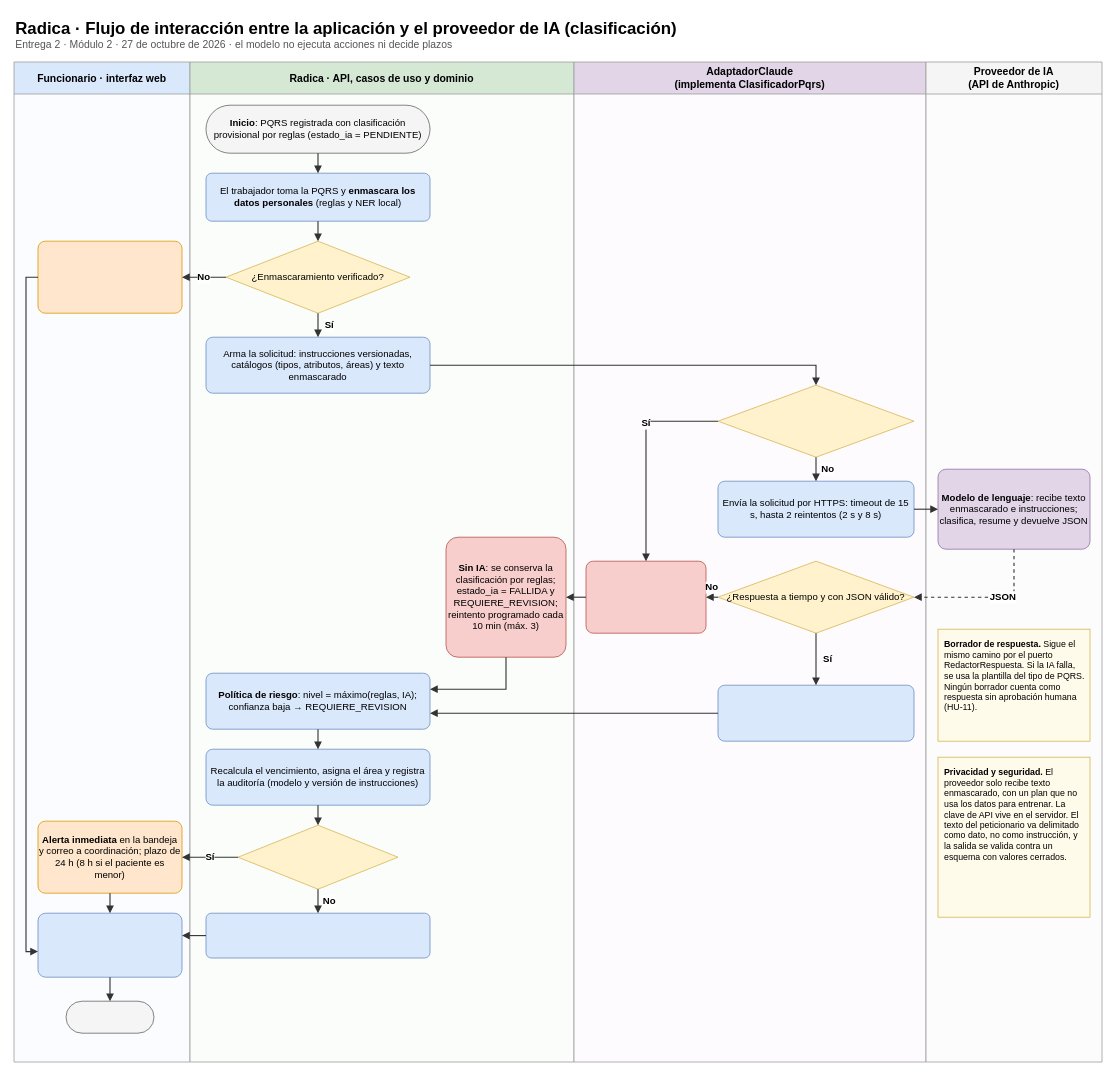
This 1116x1076 diagram has some shape labels left out. Each missing label, with the centre of its shape:
Error controlado : ProveedorNoDisponible o SalidaInvalida: point 645,596
Fin: point 109,1016
Normaliza a los valores del dominio y registra tokens, costo y latencia: point 815,712
Notifica la asignación al área (correo): point 317,935
Recibe la PQRS para clasificación manual ; no hubo llamada externa: point 109,276
Revisa, confirma o corrige (motivo obligatorio si baja el riesgo): point 109,944
¿Circuito abierto? (5 fallas seguidas): point 815,420
¿Riesgo vital?: point 317,856
